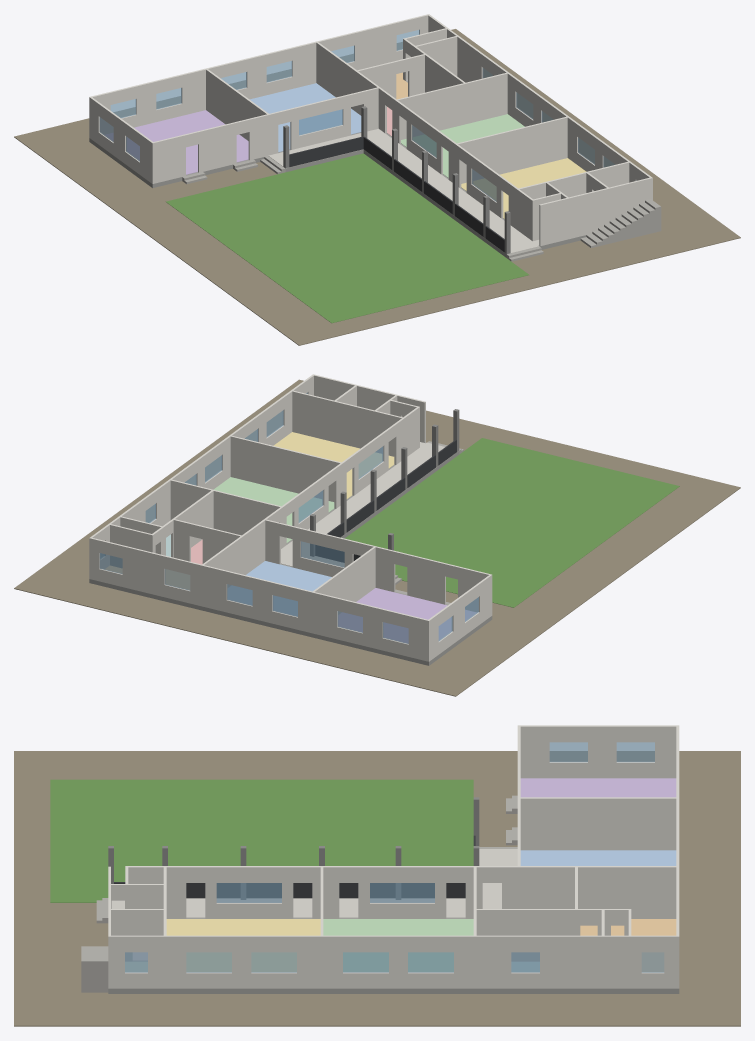
Rendered from agri_lab.fbx.
3 views of the same model, one above another, from view 1: azimuth 30°, elevation 25°; view 2: azimuth 150°, elevation 25°; view 3: azimuth 270°, elevation 25° (orthographic). The views are drawn at different scales.
Visible parts, largest first — view 1: Open_Area_080113, Ground, Wall_South_Pier_0, Wall_080105_080106_Pier_0, Wall_080104_080105_Pier_0, Floor_080110, Floor_080101_Corridor, Floor_080111, Wall_Corridor_Pier_7, Floor_Slab, Wall_080111_080110_Pier_0, Floor_080106 (+23 smaller); view 2: Ground, Open_Area_080113, Wall_080105_080106_Pier_0, Wall_080106_South_Pier_0, Wall_080104_080105_Pier_0, Floor_Slab, Floor_080111, Floor_080101_Corridor, Floor_080110, Floor_080106, Wall_Corridor_Pier_7, Wall_North_Pier_5 (+23 smaller); view 3: Ground, Open_Area_080113, Wall_080111_080110_Pier_0, Wall_Corridor_Pier_7, Wall_East_Pier_6, Floor_080106, Floor_080105, Floor_Slab, Floor_080111, Wall_East_Pier_5, Wall_080104_080103_Pier_0, Floor_080110 (+53 smaller).
Part boxes in pixels (x1,y1,x2,y2): Open_Area_080113: [166, 153, 528, 323]; Ground: [14, 29, 740, 345]; Wall_South_Pier_0: [539, 177, 652, 246]; Wall_080105_080106_Pier_0: [457, 116, 567, 183]; Wall_080104_080105_Pier_0: [397, 73, 507, 139]; Floor_080110: [250, 83, 361, 152]; Floor_080101_Corridor: [364, 142, 539, 254]; Floor_080111: [105, 110, 248, 174]; Wall_Corridor_Pier_7: [316, 42, 386, 133]; Floor_Slab: [89, 81, 586, 257]; Wall_080111_080110_Pier_0: [206, 69, 268, 140]; Floor_080106: [461, 158, 586, 218]; Ground: [14, 379, 740, 696]; Open_Area_080113: [345, 438, 679, 607]; Wall_080105_080106_Pier_0: [230, 435, 341, 501]; Wall_080106_South_Pier_0: [292, 390, 402, 456]; Wall_080104_080105_Pier_0: [170, 479, 280, 535]; Floor_Slab: [89, 442, 492, 665]; Floor_080111: [338, 588, 476, 642]; Floor_080101_Corridor: [284, 442, 458, 553]; Floor_080110: [228, 561, 331, 615]; Floor_080106: [273, 432, 394, 498]; Wall_Corridor_Pier_7: [202, 514, 272, 587]; Wall_North_Pier_5: [122, 545, 164, 596]; Ground: [14, 751, 740, 1026]; Open_Area_080113: [50, 779, 473, 902]; Wall_080111_080110_Pier_0: [520, 797, 676, 850]; Wall_Corridor_Pier_7: [502, 866, 676, 918]; Wall_East_Pier_6: [540, 935, 641, 988]; Floor_080106: [166, 919, 320, 971]; Floor_080105: [323, 919, 473, 971]; Floor_Slab: [108, 918, 679, 993]; Floor_080111: [520, 778, 676, 797]; Wall_East_Pier_5: [454, 935, 511, 988]; Wall_080104_080103_Pier_0: [476, 909, 580, 961]; Floor_080110: [520, 850, 676, 865].
Bounding box in the file's own units: 34 × 3.35 × 38.
